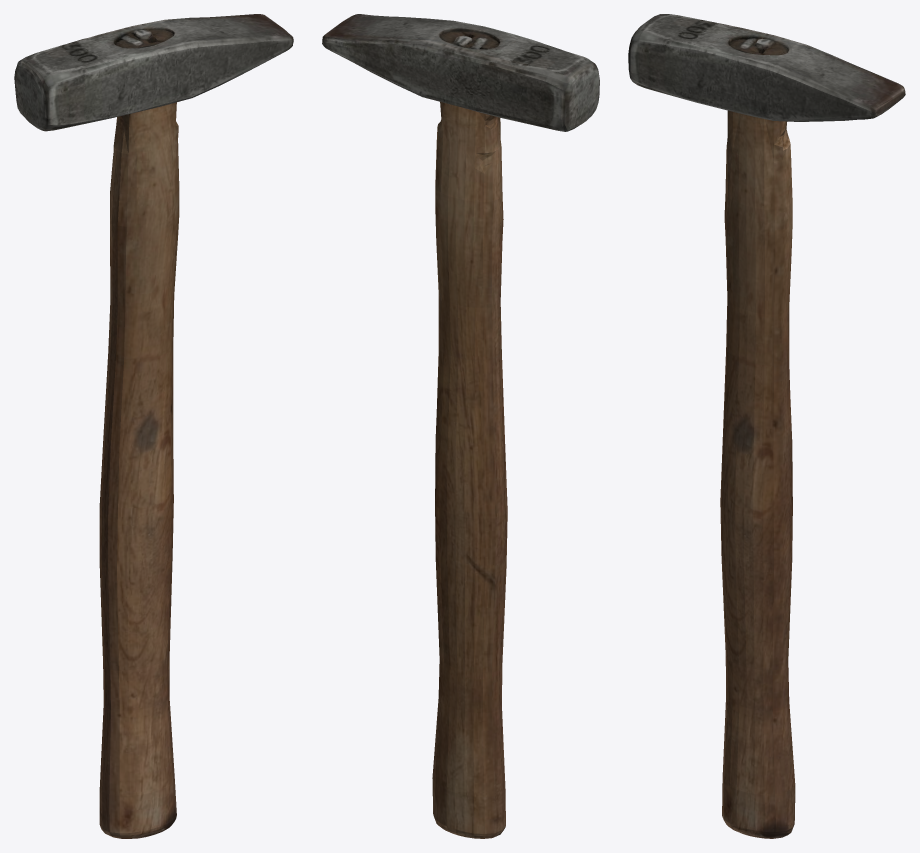
Rendered from CrossPeinHammer.obj.
3 views of the same model, side by side, from view 1: azimuth 30°, elevation 25°; view 2: azimuth 150°, elevation 25°; view 3: azimuth 330°, elevation 25° (orthographic).
Parts seen in each view (by area): view 1: RetopoFlow_001; view 2: RetopoFlow_001; view 3: RetopoFlow_001.
Boxes of the visible parts, left/top/right/bottom form: RetopoFlow_001: left=14, top=14, right=293, bottom=838; RetopoFlow_001: left=322, top=14, right=599, bottom=838; RetopoFlow_001: left=628, top=14, right=905, bottom=838.
Size of the model in its own units: 0.099 by 0.3003 by 0.0242.
1 material, 1 textured.
